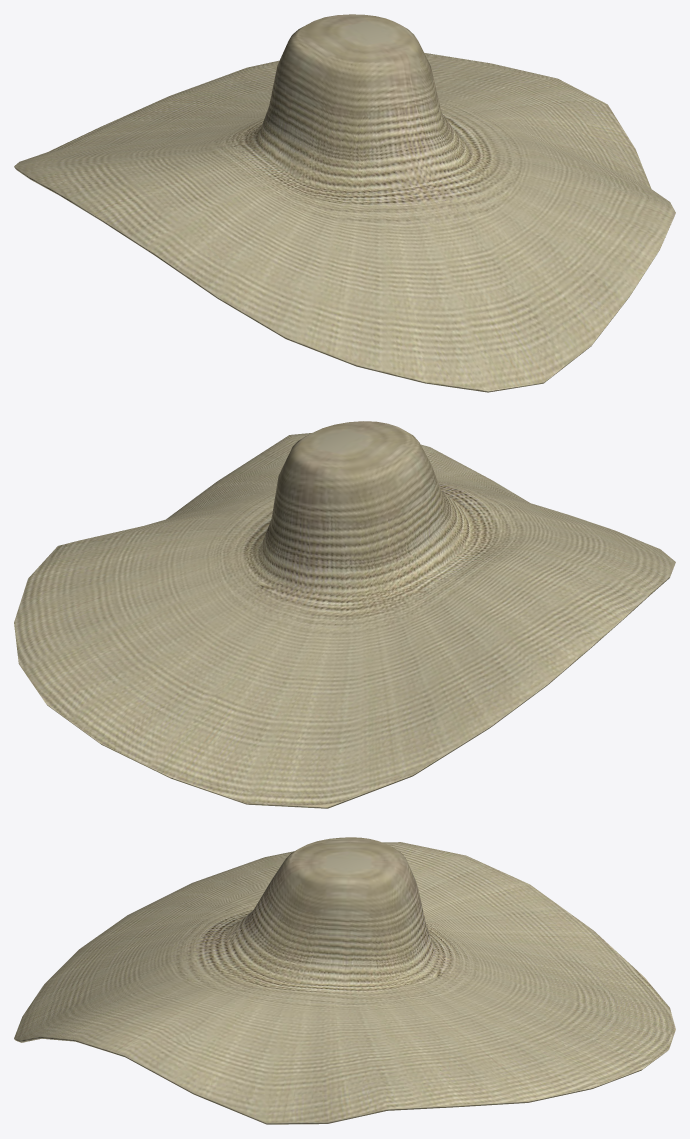
Rendered from strawhat.obj.
The picture shows the model from 3 angles, top to bottom: view 1: azimuth 30°, elevation 25°; view 2: azimuth 150°, elevation 25°; view 3: azimuth 270°, elevation 25°; orthographic projection. The views are drawn at different scales.
Bounding box in the file's own units: 58.52 × 21.76 × 70.3.
Materials: 1 (1 with a texture image).
